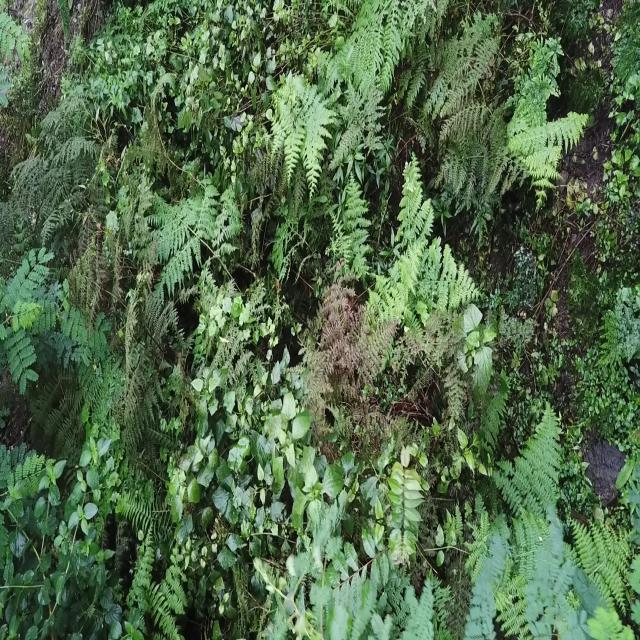Mysore-Thorn-Weed: (288, 516, 601, 640), (0, 249, 98, 387)
